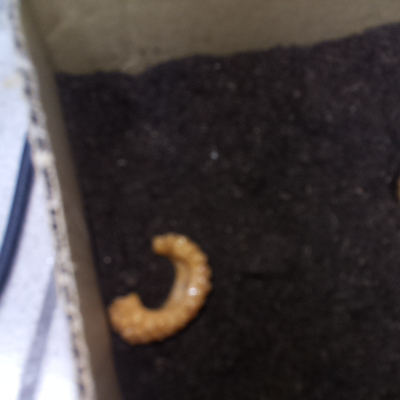eggs: (98, 228, 216, 349)
